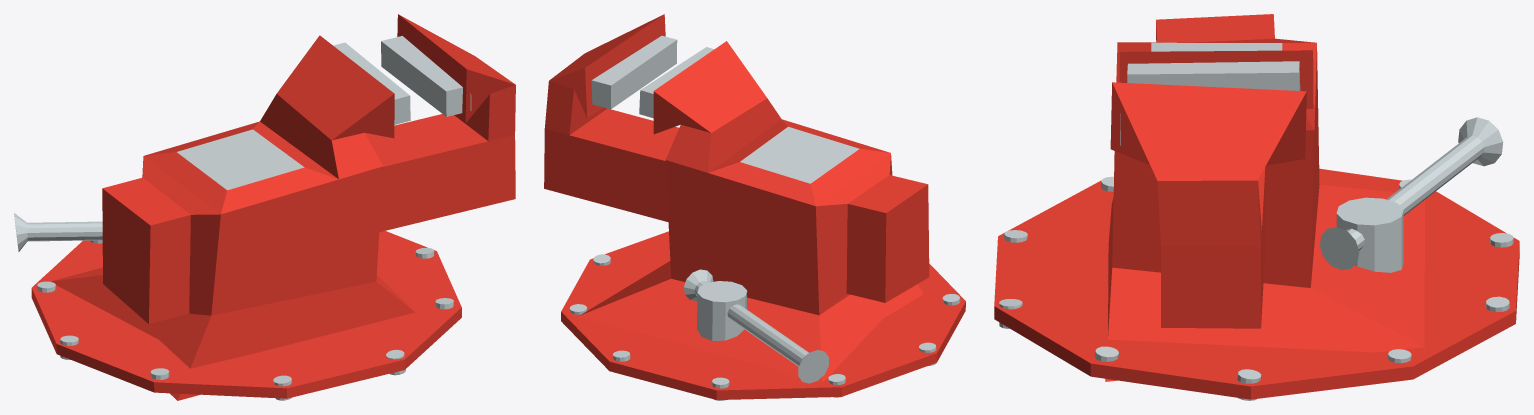
File: vice-clamp-by-sirkitree-6QuFq7pJ2Tr.glb
The picture shows the model from 3 angles, left to right: view 1: azimuth 30°, elevation 25°; view 2: azimuth 150°, elevation 25°; view 3: azimuth 270°, elevation 25°; orthographic projection. The views are drawn at different scales.
Parts seen in each view (by area): view 1: group1071027470; view 2: group1071027470; view 3: group1071027470.
Part boxes in pixels (bbox=[...]): group1071027470: bbox=[14, 14, 515, 400]; group1071027470: bbox=[544, 14, 965, 400]; group1071027470: bbox=[994, 14, 1519, 400].
Size of the model in its own units: 0.344 by 0.2024 by 0.2944.
